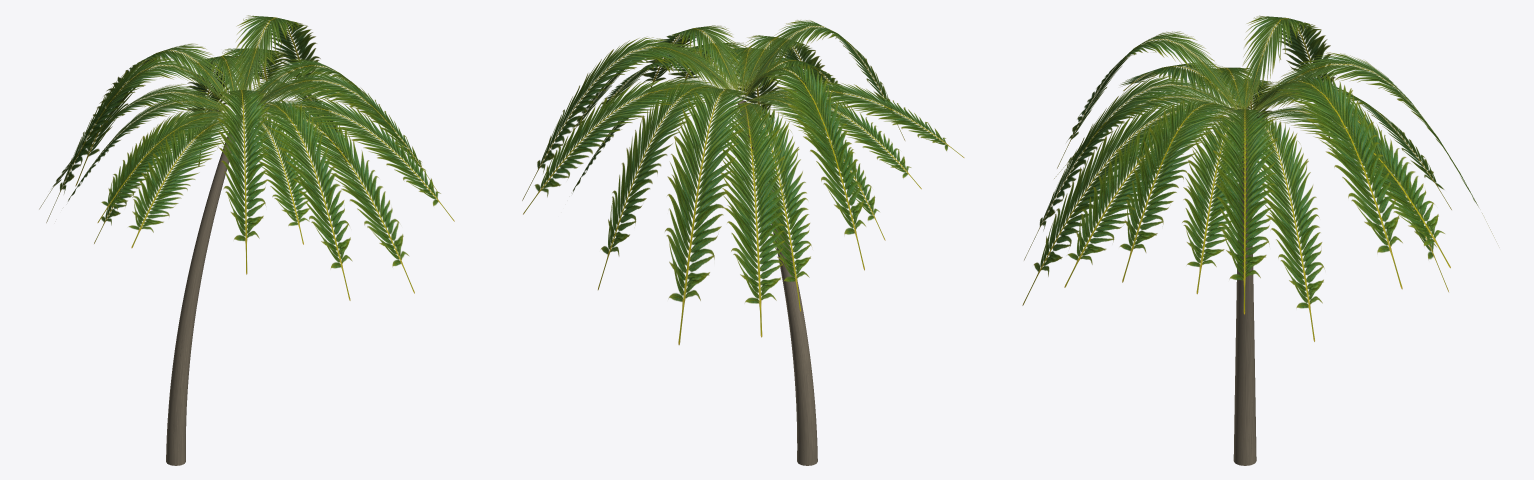
File: coconut_palm_0.glb
3 renders of one model, left to right at view 1: azimuth 30°, elevation 25°; view 2: azimuth 150°, elevation 25°; view 3: azimuth 270°, elevation 25°, orthographic. The views are drawn at different scales.
Visible parts, largest first — view 1: PalmLeaves, PalmTrunk; view 2: PalmLeaves, PalmTrunk; view 3: PalmLeaves, PalmTrunk.
Boxes of the visible parts, bbox=[...] form: PalmLeaves: bbox=[39, 15, 454, 300]; PalmTrunk: bbox=[166, 115, 242, 465]; PalmLeaves: bbox=[522, 20, 964, 345]; PalmTrunk: bbox=[737, 100, 817, 465]; PalmLeaves: bbox=[1022, 15, 1495, 341]; PalmTrunk: bbox=[1233, 118, 1256, 465].
Size of the model in its own units: 9.09 by 9.45 by 10.09.
2 materials, 2 textured.
